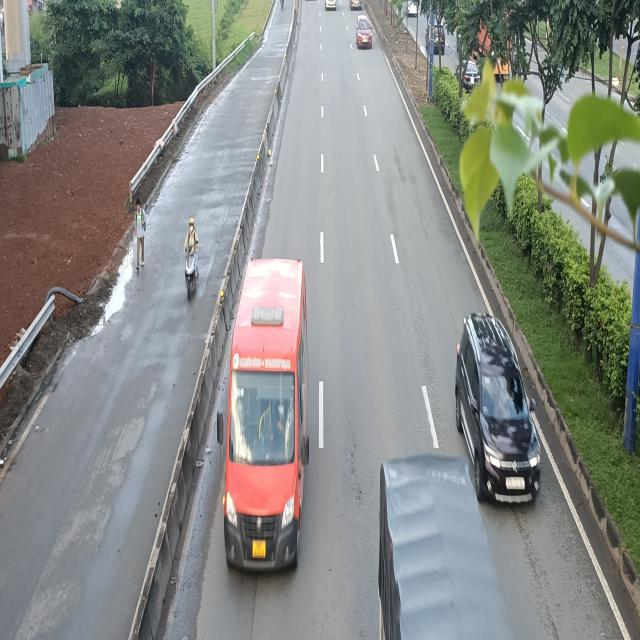car: (456, 312, 542, 507), (356, 15, 372, 48)
truck: (380, 449, 509, 640)
van: (217, 262, 313, 577)
